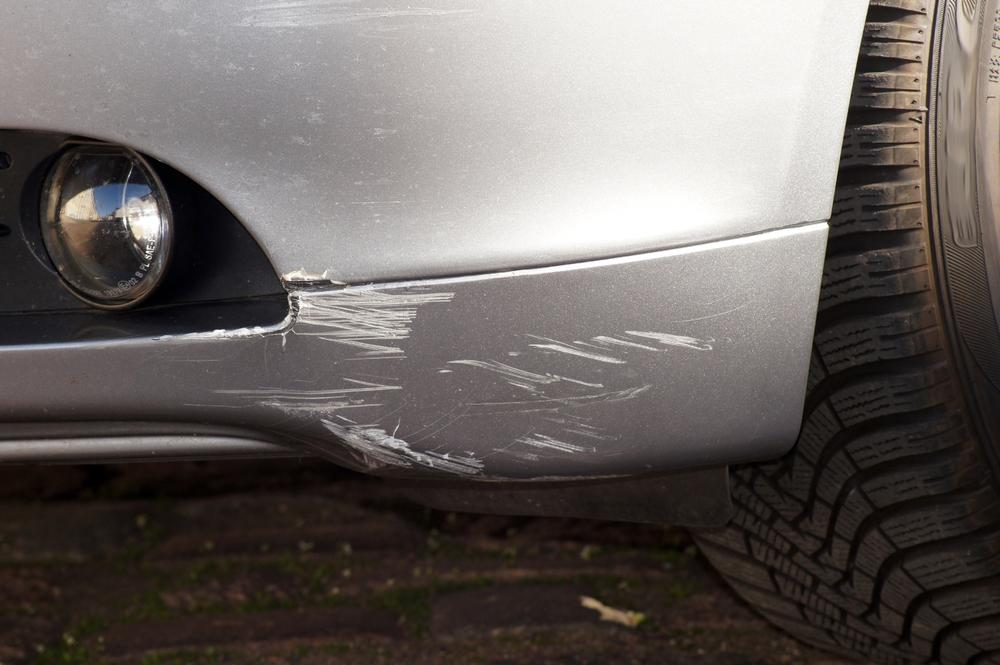scratch: (205, 266, 719, 483)
